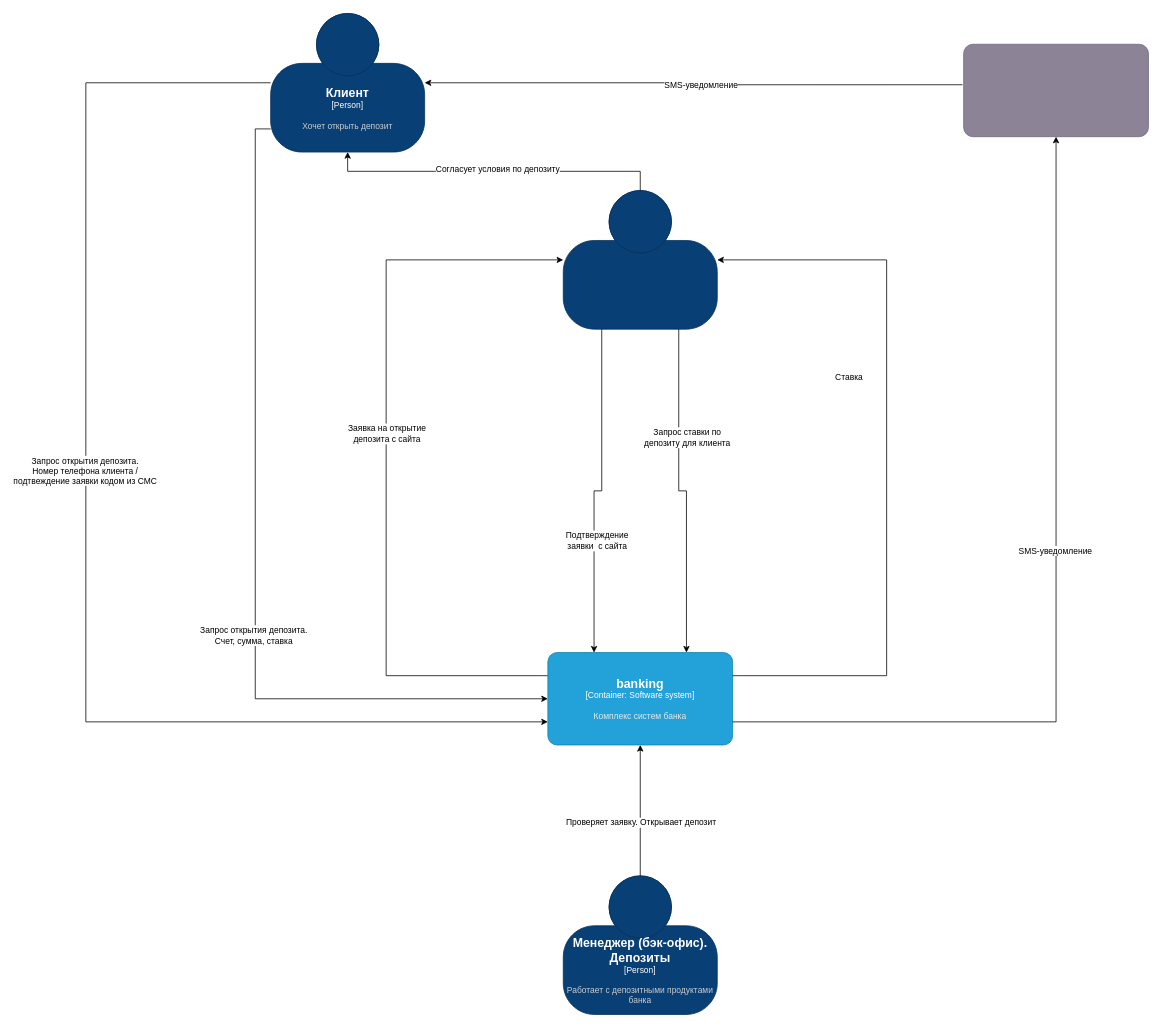
The diagram is 1162 pixels wide and 1028 high, and some of its shapes have lost their labels. Each missing label, with the centre of its shape:
"Оператор кол-центра. Внутренний [Person] Обрабатывает телефонные обращения" belongs at pixel 639 259.
"Телеком-оператор [Software System] Берет на себе функцию доставки СМС клиентам" belongs at pixel 1055 90.
